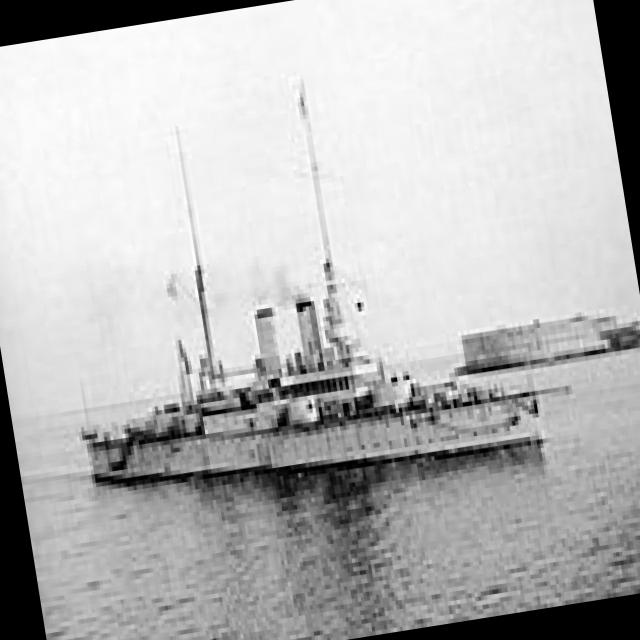boat: (13, 110, 570, 517)
